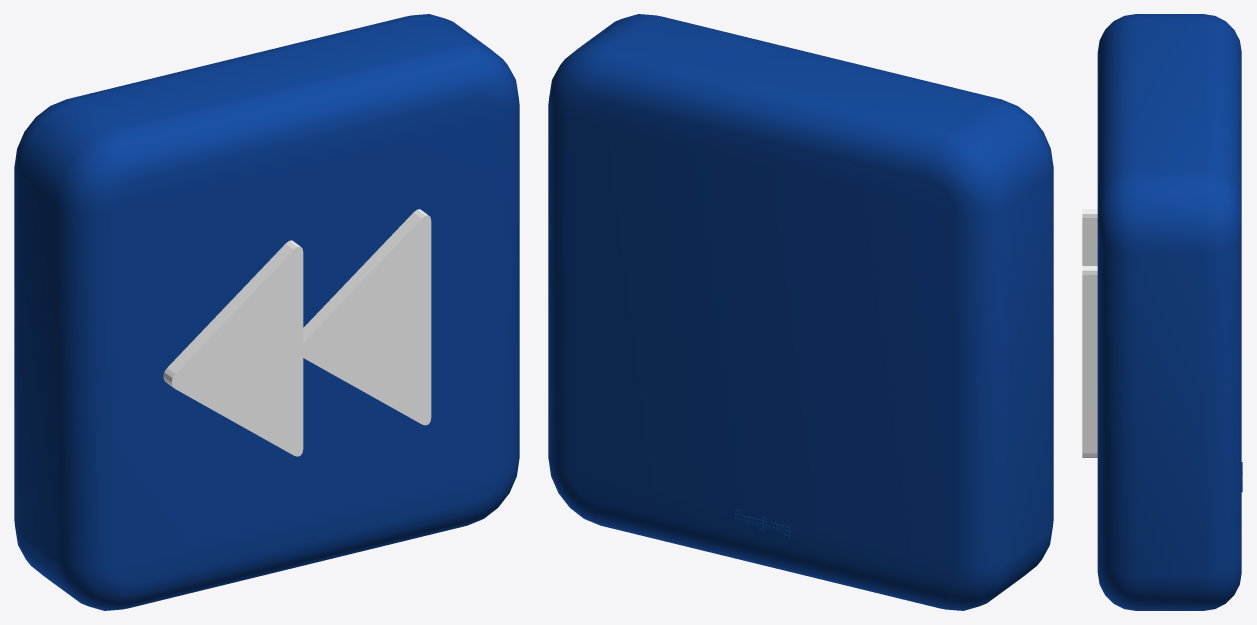
File: fast_reverse_button.glb
3 views of the same model, side by side, from view 1: azimuth 30°, elevation 25°; view 2: azimuth 150°, elevation 25°; view 3: azimuth 270°, elevation 25° (orthographic). The views are drawn at different scales.
Parts seen in each view (by area): view 1: Cube.6424; view 2: Cube.6424; view 3: Cube.6424.
Boxes of the visible parts, box(x1,y1,x2,y2) form: Cube.6424: box(14, 14, 519, 610); Cube.6424: box(548, 14, 1053, 610); Cube.6424: box(1082, 14, 1242, 610).
Bounding box in the file's own units: 2.2 × 2.2 × 0.7337.
1 material, 1 textured.
